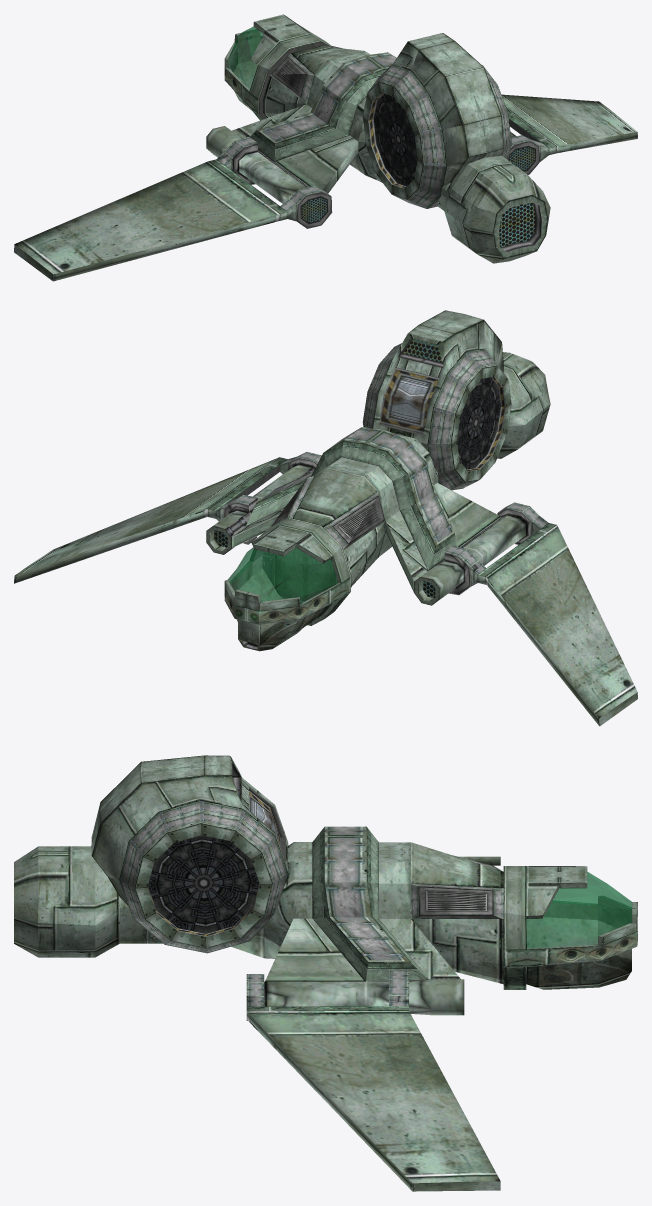
File: N8dfo.obj
3 views of the same model, one above another, from view 1: azimuth 30°, elevation 25°; view 2: azimuth 150°, elevation 25°; view 3: azimuth 270°, elevation 25° (orthographic). The views are drawn at different scales.
Parts seen in each view (by area): view 1: polySurface1_polySurface947; view 2: polySurface1_polySurface947; view 3: polySurface1_polySurface947.
Boxes of the visible parts, x1,y1,x2,y2 form: polySurface1_polySurface947: [14, 14, 637, 281]; polySurface1_polySurface947: [14, 310, 637, 726]; polySurface1_polySurface947: [14, 755, 637, 1191].
Bounding box in the file's own units: 19.24 × 7.27 × 15.6.
3 materials, 1 textured.
